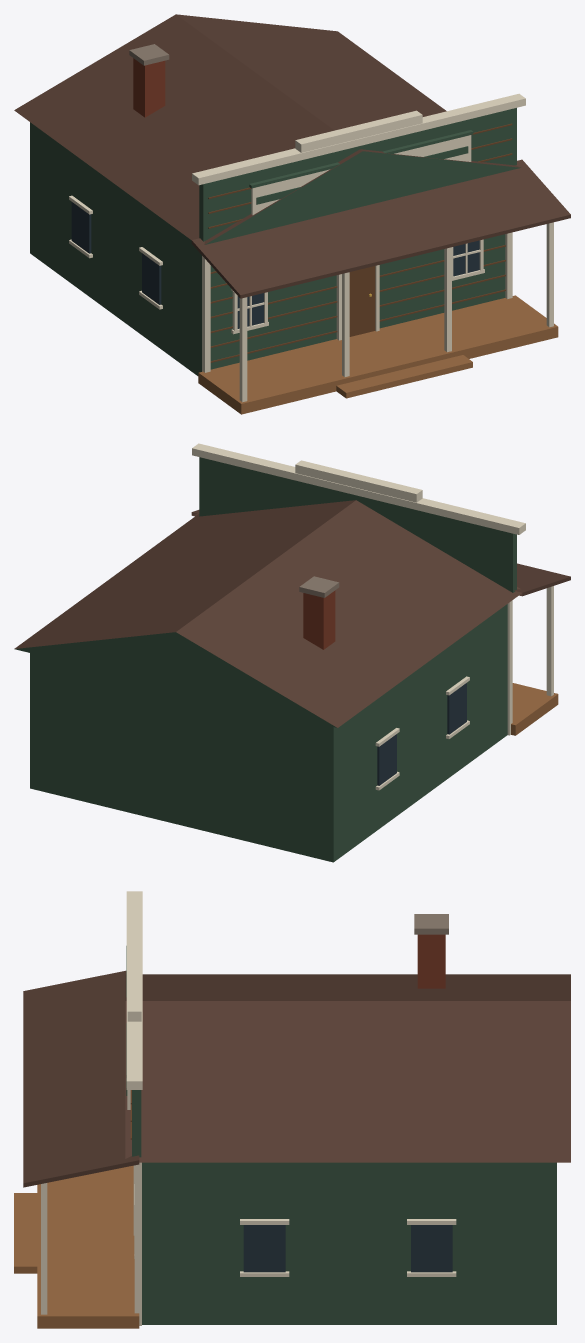
The model's file is SM_GeneralStore.fbx.
3 views of the same model, one above another, from view 1: azimuth 30°, elevation 25°; view 2: azimuth 150°, elevation 25°; view 3: azimuth 270°, elevation 25° (orthographic). The views are drawn at different scales.
Visible parts, largest first — view 1: GeneralStore; view 2: GeneralStore; view 3: GeneralStore.
Boxes of the visible parts, box(x1,y1,x2,y2) form: GeneralStore: box(14, 14, 570, 414); GeneralStore: box(14, 443, 570, 862); GeneralStore: box(14, 891, 570, 1328).
Size of the model in its own units: 980 by 1200 by 632.
